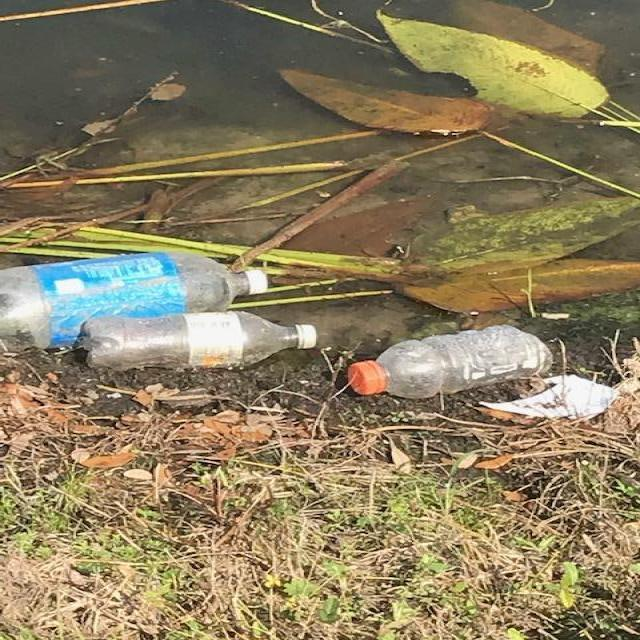litter: (0, 251, 267, 350), (348, 328, 551, 398), (87, 311, 317, 371), (480, 376, 621, 415)
